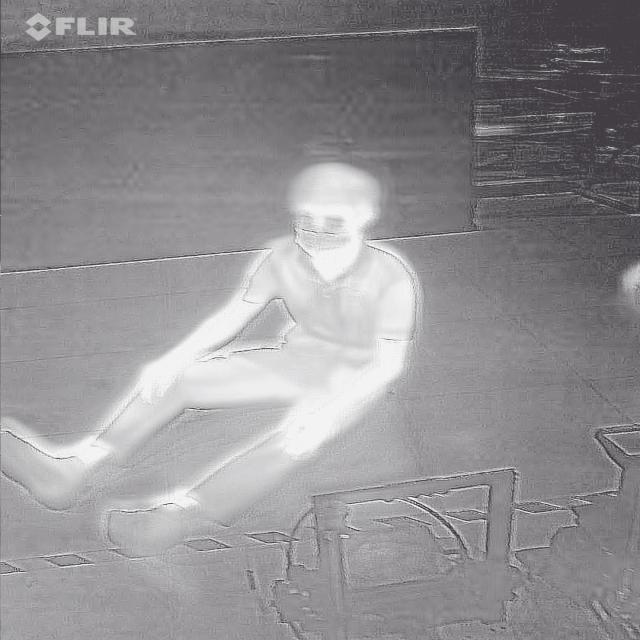Victim: (0, 161, 426, 551)
